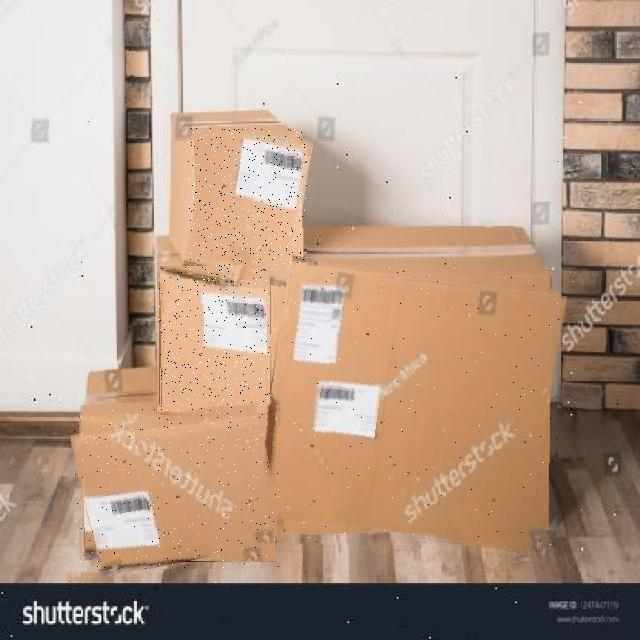BoxFace: (263, 266, 559, 545), (76, 405, 280, 569), (188, 128, 307, 284), (159, 266, 270, 412)
